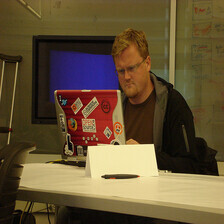laptop: (47, 78, 154, 168)
